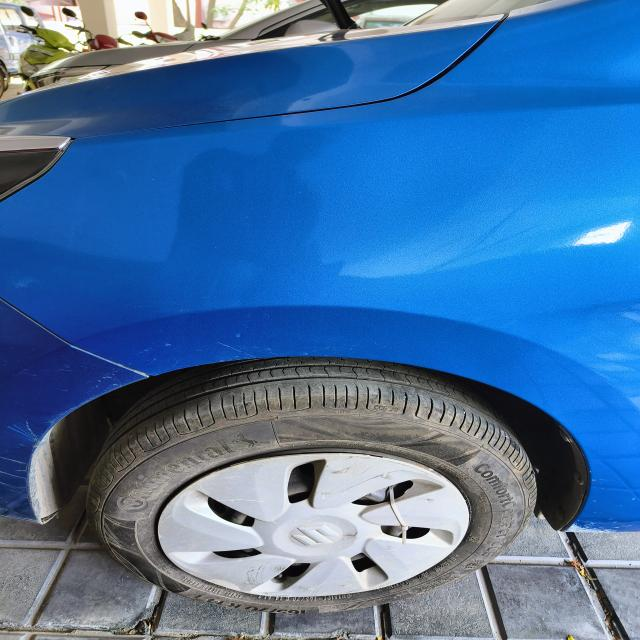scratch: (0, 419, 43, 529), (74, 370, 142, 388), (210, 337, 260, 360)
